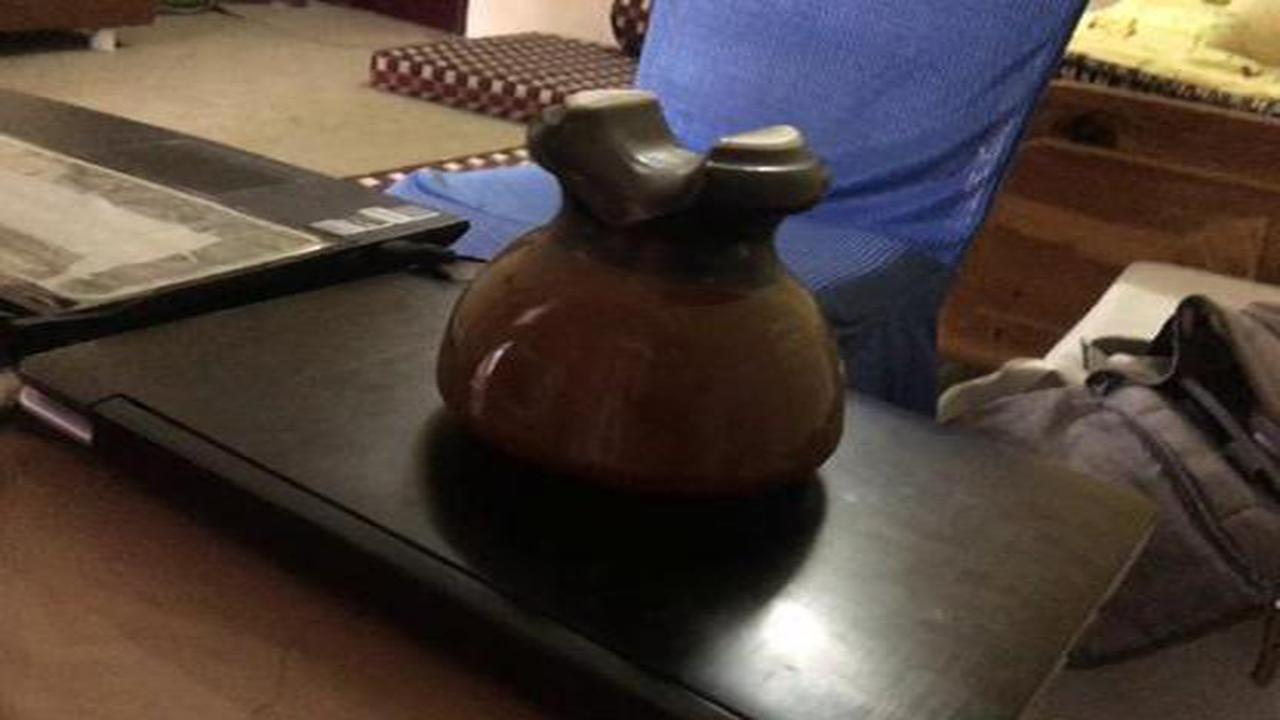insulator_pin: (422, 68, 868, 516)
